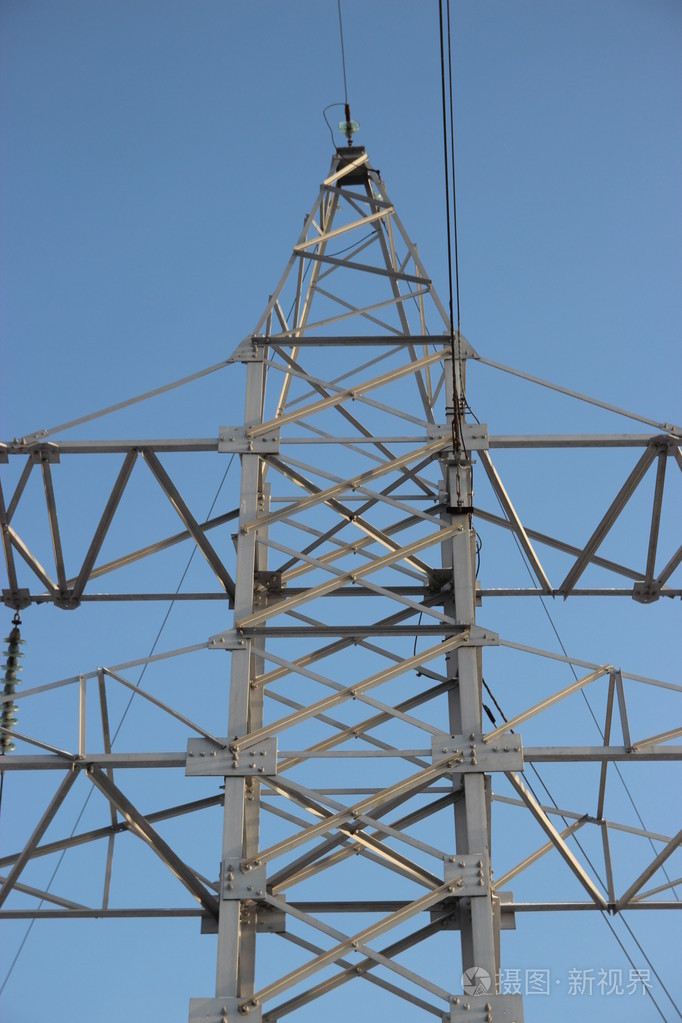insulator: (1, 634, 33, 740)
